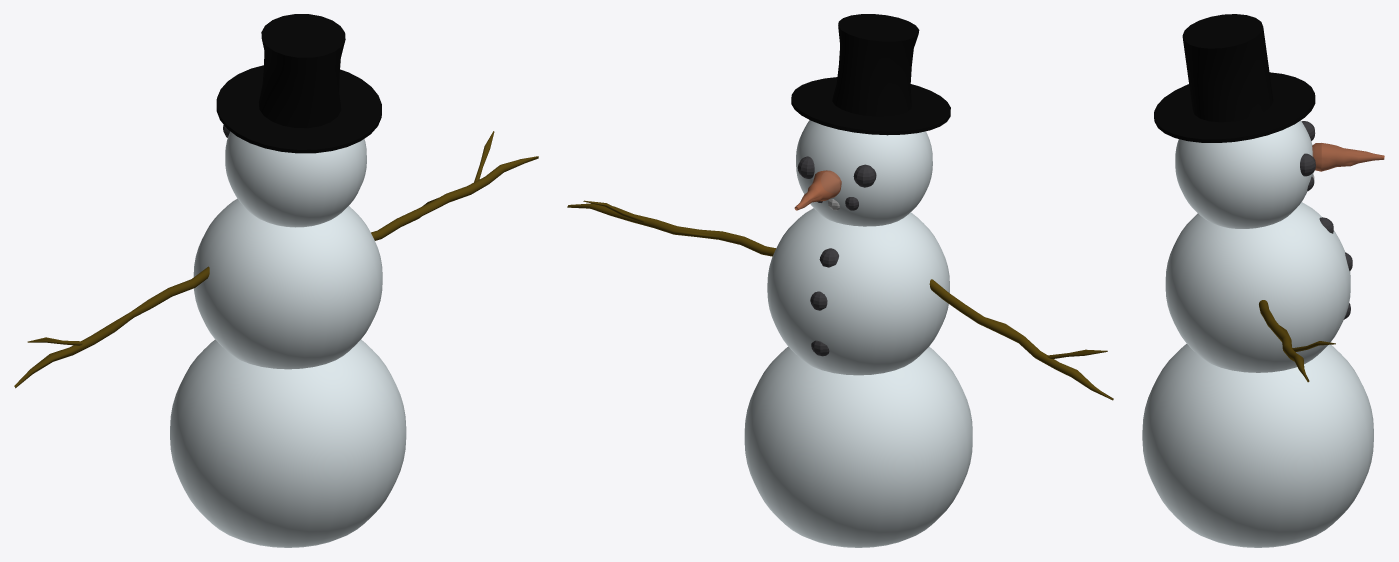
File: snowman_fn.fbx
3 views of the same model, side by side, from view 1: azimuth 30°, elevation 25°; view 2: azimuth 150°, elevation 25°; view 3: azimuth 270°, elevation 25° (orthographic). The views are drawn at different scales.
Visible parts, largest first — view 1: snow1, snow2, snow3, hat2, hat1, stick2 (×2); view 2: snow1, snow2, snow3, hat2, hat1, stick2 (×2), nose; view 3: snow1, snow2, snow3, hat2, hat1, nose, stick2, coal2.
Part boxes in pixels (x1=…): snow1: x1=170, y1=339, x2=406, y2=547; snow2: x1=193, y1=198, x2=382, y2=369; snow3: x1=225, y1=131, x2=366, y2=227; hat2: x1=258, y1=14, x2=345, y2=128; hat1: x1=216, y1=65, x2=381, y2=153; stick2 (×2): x1=14, y1=156, x2=538, y2=388; snow1: x1=744, y1=346, x2=972, y2=547; snow2: x1=767, y1=208, x2=949, y2=375; snow3: x1=796, y1=120, x2=932, y2=226; hat2: x1=832, y1=14, x2=919, y2=116; hat1: x1=791, y1=77, x2=950, y2=135; stick2 (×2): x1=567, y1=203, x2=1113, y2=400; nose: x1=794, y1=170, x2=841, y2=210; snow1: x1=1142, y1=344, x2=1373, y2=547; snow2: x1=1165, y1=202, x2=1350, y2=372; snow3: x1=1175, y1=120, x2=1313, y2=228; hat2: x1=1182, y1=14, x2=1273, y2=122; hat1: x1=1154, y1=72, x2=1315, y2=142; nose: x1=1312, y1=143, x2=1384, y2=171; stick2: x1=1259, y1=300, x2=1309, y2=382; coal2: x1=1300, y1=153, x2=1315, y2=176.
Bounding box in the file's own units: 5.29 × 4.76 × 2.08.
